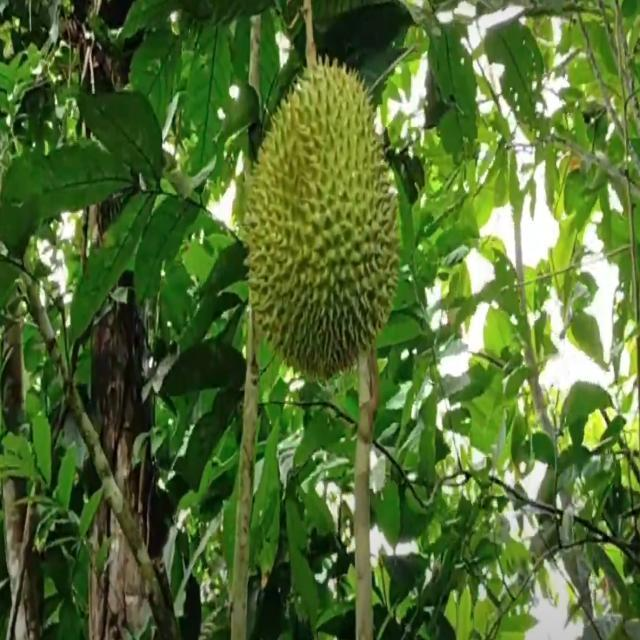immature: (243, 55, 401, 384)
